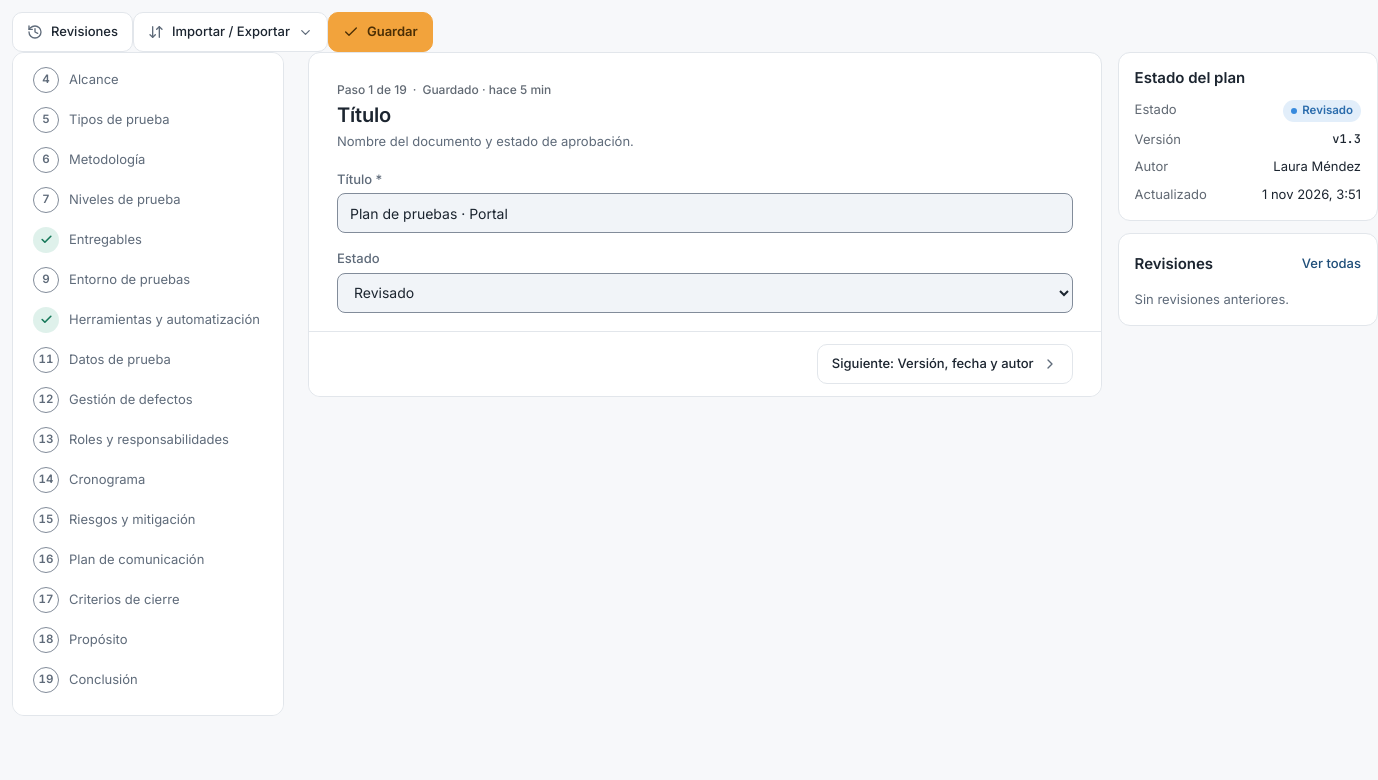
it: plan wizard (SPEC §8 «Plan») › the footer says which step is next, and «Finalizar plan» on the last one
This screenshot has width=1378, height=780.
(page scrolled)
Check: the button "Siguiente: Versión, fecha y autor" is shown, box [817,344,1073,384]
Step 1. Click the button "19 Conclusión" → (148, 680), box [25,660,271,698]
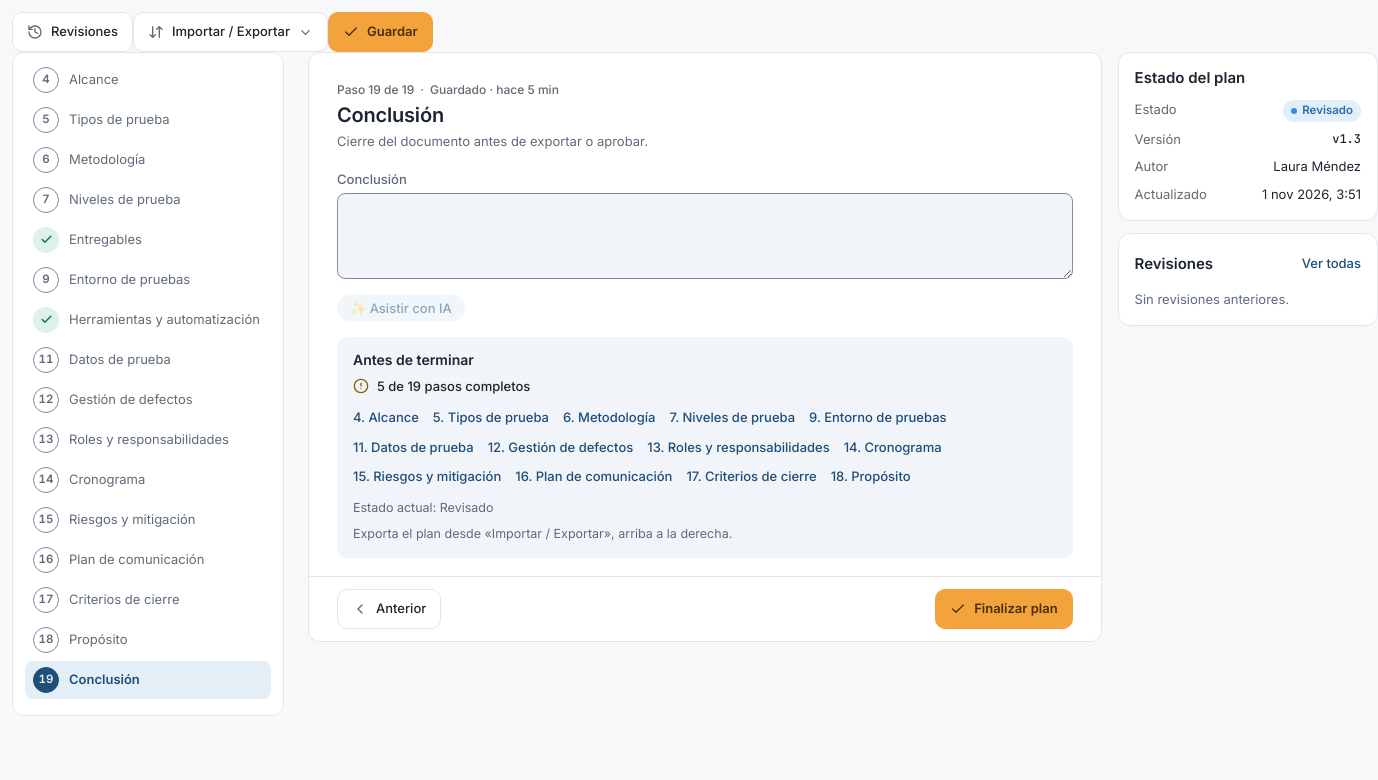
Check: the button "Finalizar plan" is shown, box [935,589,1073,629]
Check: the button "Anterior" is shown, box [337,589,441,629]
